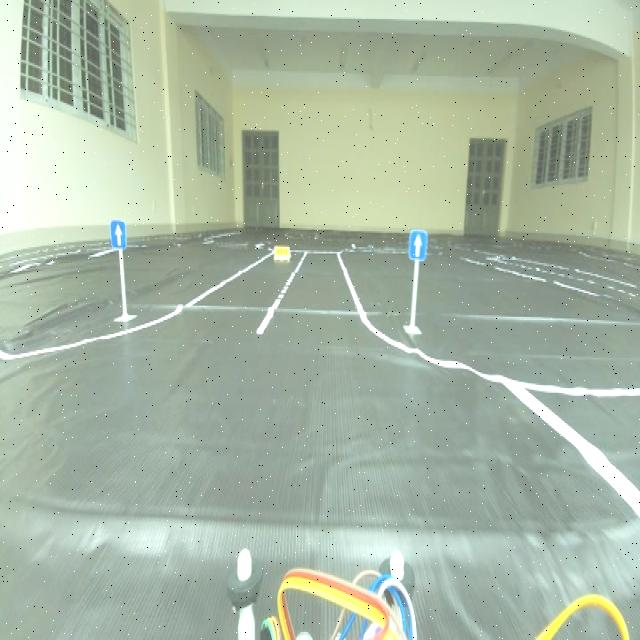onewayroad: (108, 217, 130, 252), (407, 227, 426, 264)
roadblock: (271, 244, 292, 263)
